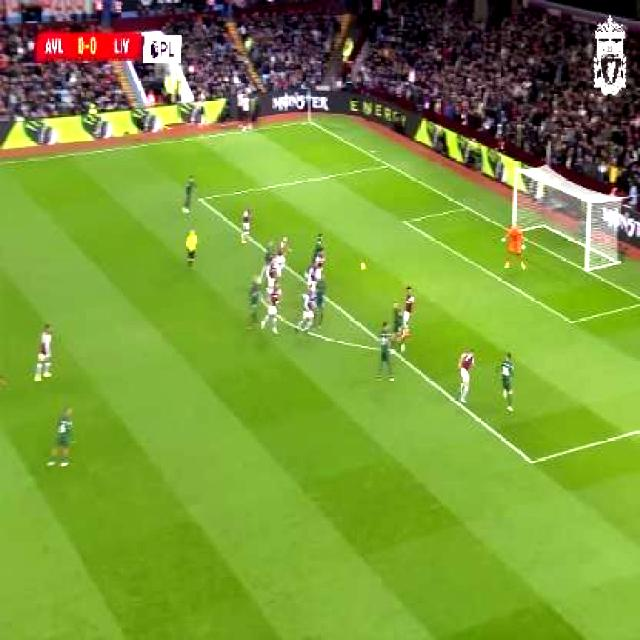bigarea_bottom_inner: (520, 446, 540, 474)
bigarea_top_inner: (190, 188, 208, 208)
bigarea_top_outter: (382, 157, 396, 172)
bottom_arc_area_intersection: (385, 340, 400, 358)
corner: (298, 114, 316, 128)
smallarea_bottom_inner: (563, 308, 580, 332)
smallarea_top_inner: (396, 211, 412, 231)
smallarea_top_outter: (458, 198, 472, 216)
